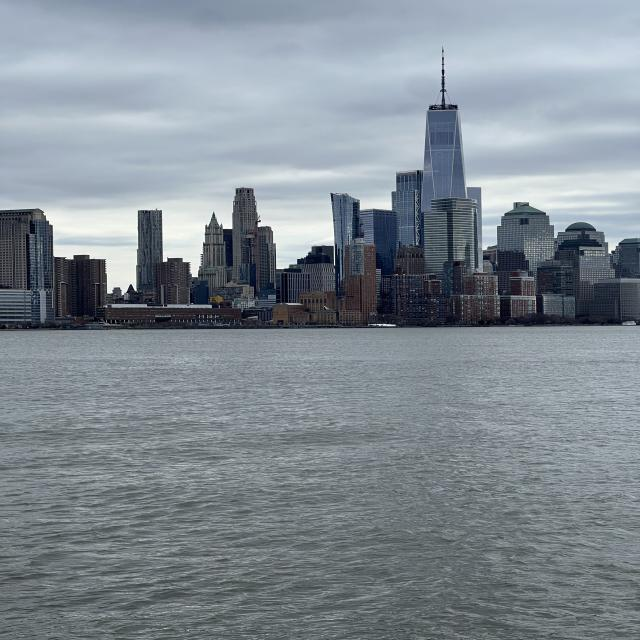WTC: (419, 49, 466, 205)
